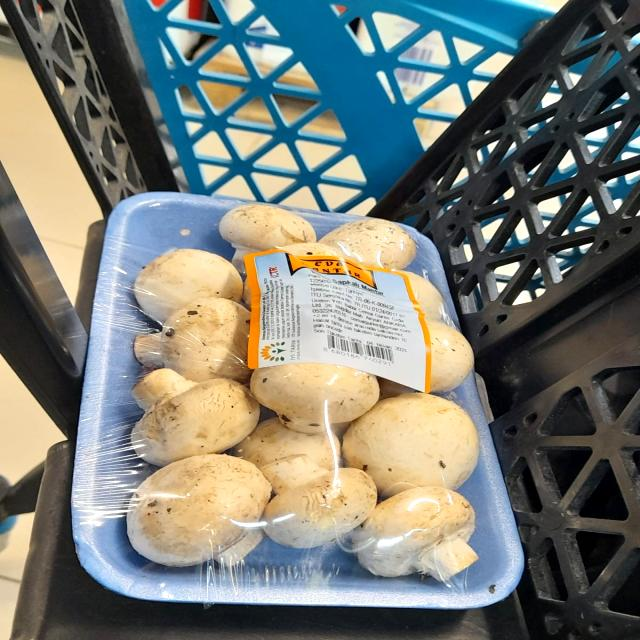mushroom: (106, 450, 278, 573), (343, 380, 493, 501), (99, 362, 264, 462), (357, 483, 499, 592), (120, 293, 264, 389)
